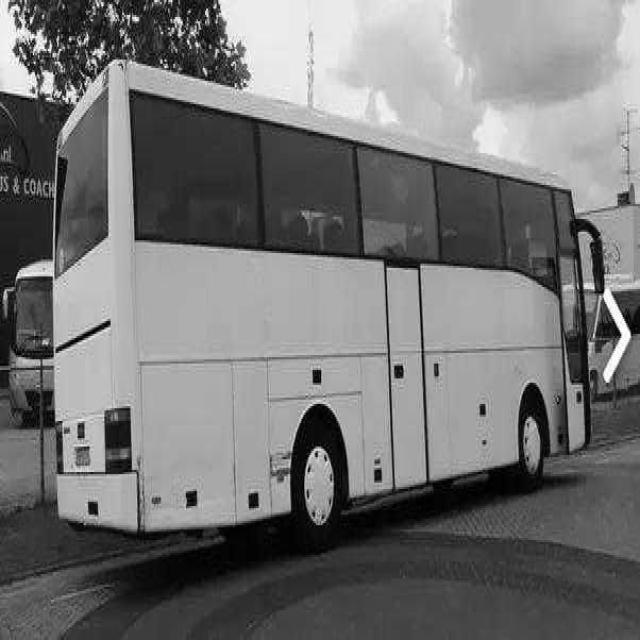Bus: (52, 60, 604, 541)
